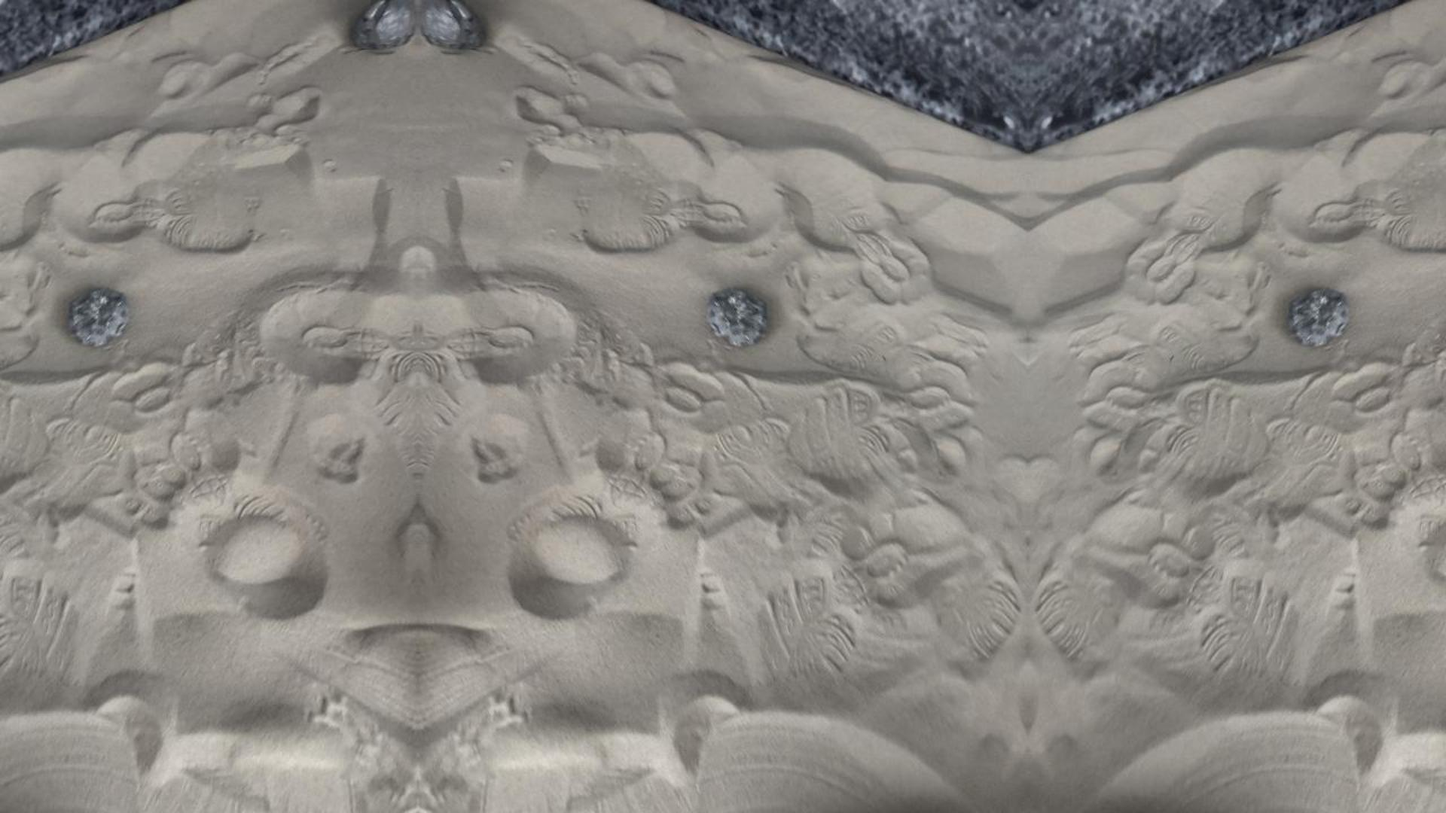rock: (68, 288, 129, 346), (1288, 288, 1349, 346), (707, 288, 767, 346), (351, 0, 416, 49), (421, 0, 482, 49)
